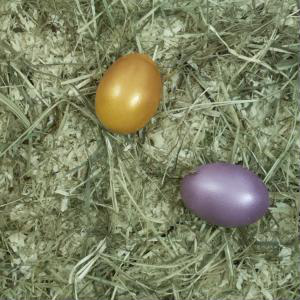egg: (179, 161, 270, 228), (96, 53, 163, 135)
